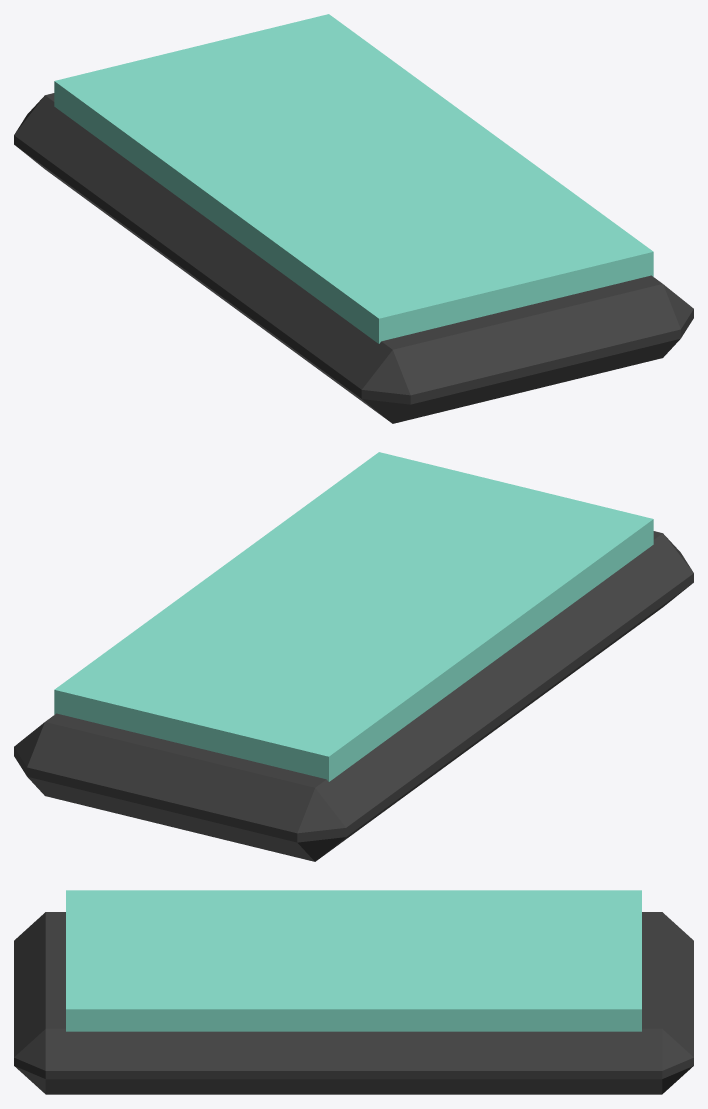
The picture shows the model from 3 angles, top to bottom: view 1: azimuth 30°, elevation 25°; view 2: azimuth 150°, elevation 25°; view 3: azimuth 270°, elevation 25°; orthographic projection. The views are drawn at different scales.
Parts seen in each view (by area): view 1: Screen, Phone; view 2: Screen, Phone; view 3: Screen, Phone.
Boxes of the visible parts, left/top/right/bottom form: Screen: left=54, top=14, right=653, bottom=343; Phone: left=14, top=93, right=693, bottom=423; Screen: left=54, top=452, right=653, bottom=781; Phone: left=14, top=531, right=693, bottom=861; Screen: left=66, top=890, right=641, bottom=1031; Phone: left=14, top=912, right=693, bottom=1094.
Size of the model in its own units: 0.075 by 0.021 by 0.15.
1 material, 1 textured.
